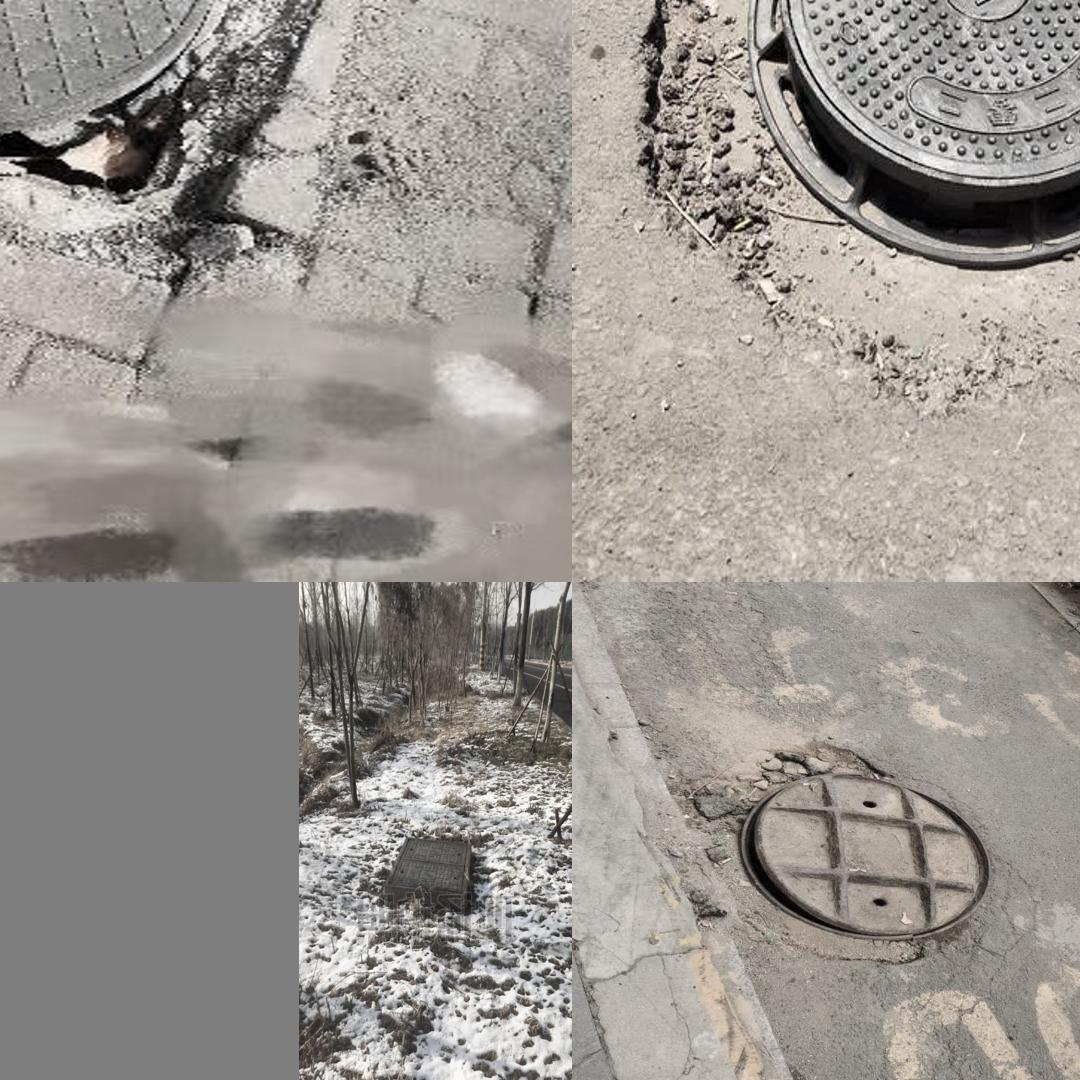circle: (646, 0, 1080, 399), (639, 738, 1031, 979), (0, 0, 327, 187), (377, 836, 475, 919)
